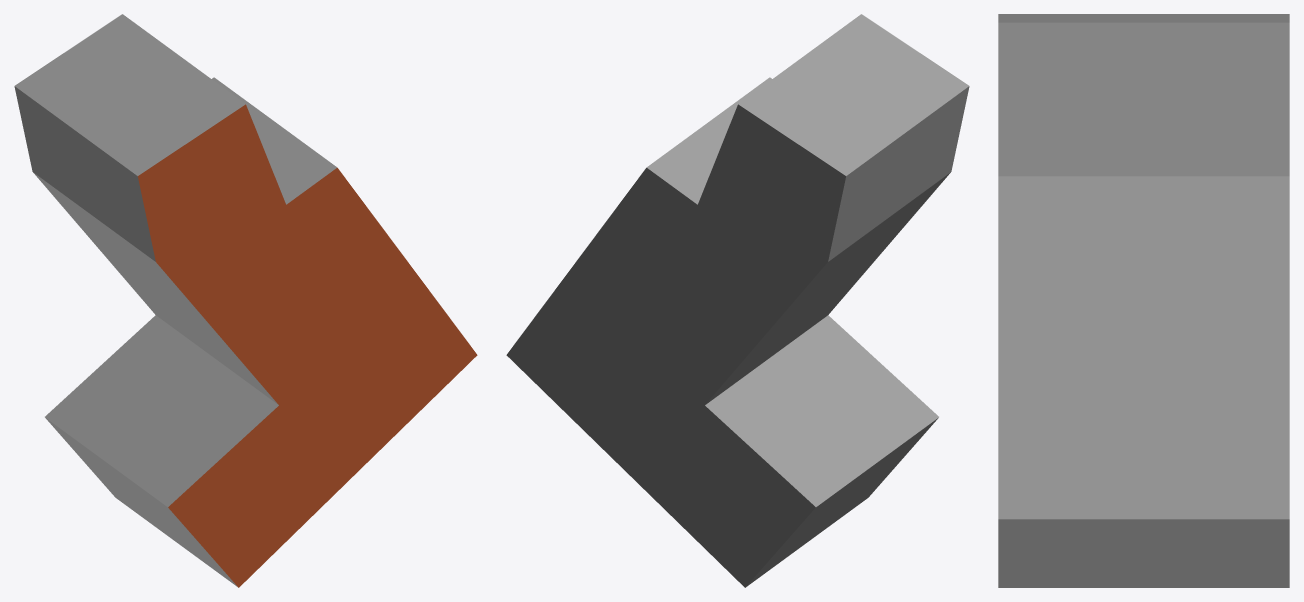
File: construction_2417_assumed_A_Casa_h6m.obj
The picture shows the model from 3 angles, left to right: view 1: azimuth 30°, elevation 25°; view 2: azimuth 150°, elevation 25°; view 3: azimuth 270°, elevation 25°; orthographic projection. The views are drawn at different scales.
Parts seen in each view (by area): view 1: construction_2417_assumed_A_Casa; view 2: construction_2417_assumed_A_Casa; view 3: construction_2417_assumed_A_Casa.
Boxes of the visible parts, box(x1,y1,x2,y2) form: construction_2417_assumed_A_Casa: box(14, 14, 477, 587); construction_2417_assumed_A_Casa: box(506, 14, 969, 587); construction_2417_assumed_A_Casa: box(998, 14, 1289, 587).
Size of the model in its own units: 9.54 by 12.93 by 6.
